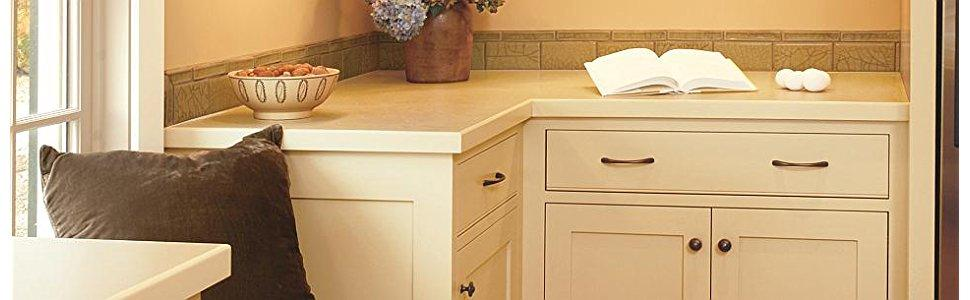cabinet_door: (554, 132, 891, 199), (710, 206, 888, 300), (542, 205, 703, 298), (463, 222, 531, 300), (458, 151, 520, 206)
handle: (602, 155, 668, 166), (476, 170, 510, 190), (774, 160, 836, 170), (456, 278, 484, 296), (714, 234, 736, 255), (685, 238, 706, 252)
